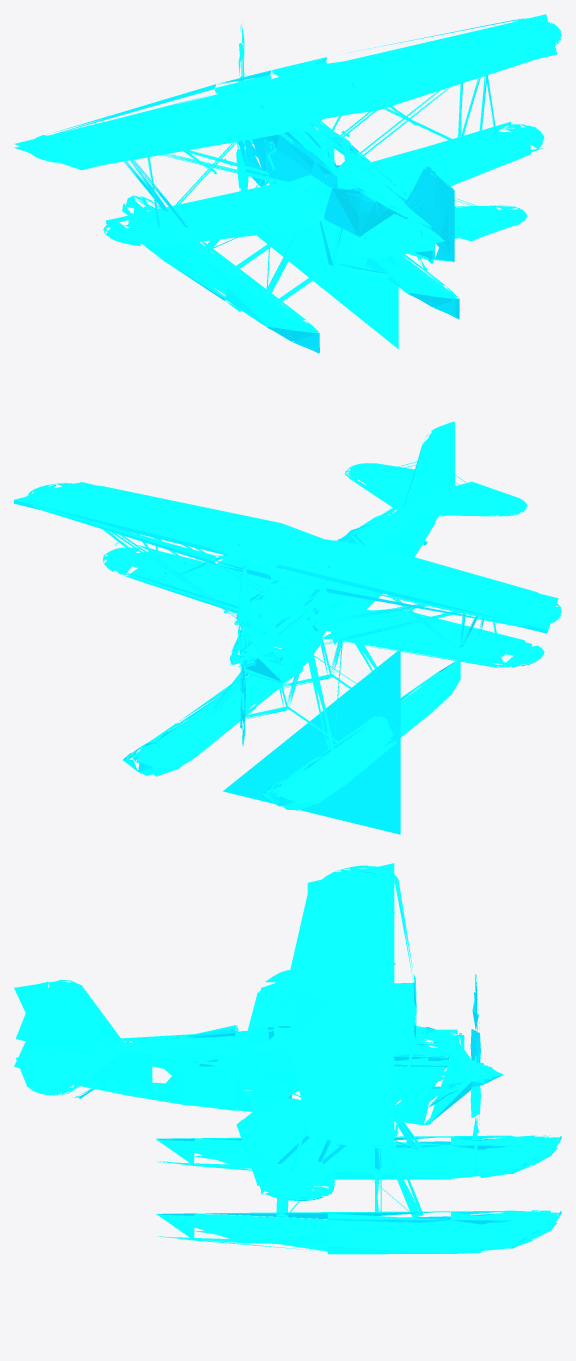
The model's file is PAAF015.glb.
The picture shows the model from 3 angles, top to bottom: view 1: azimuth 30°, elevation 25°; view 2: azimuth 150°, elevation 25°; view 3: azimuth 270°, elevation 25°; orthographic projection. The views are drawn at different scales.
Visible parts, largest first — view 1: misc; view 2: misc; view 3: misc.
Part boxes in pixels (<box>): misc: <box>14,14,561,353</box>; misc: <box>14,421,561,834</box>; misc: <box>14,863,561,1254</box>.
Bounding box in the file's own units: 0.6426 × 0.3431 × 0.5242.
